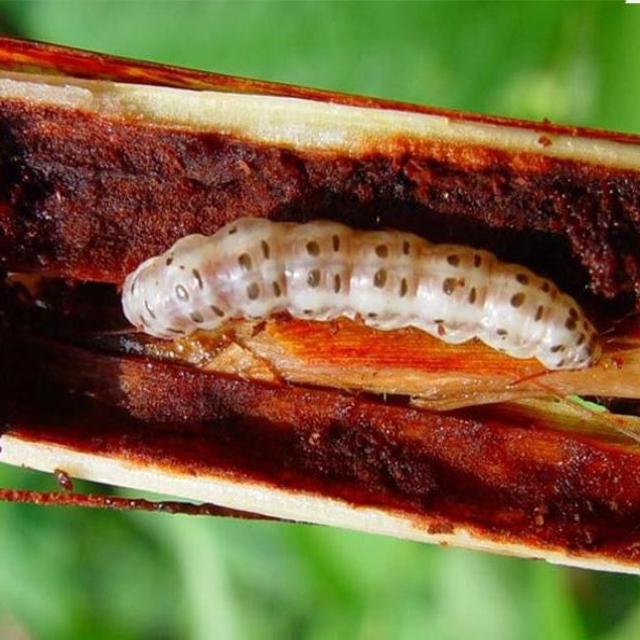peach borer: (100, 212, 604, 376)
